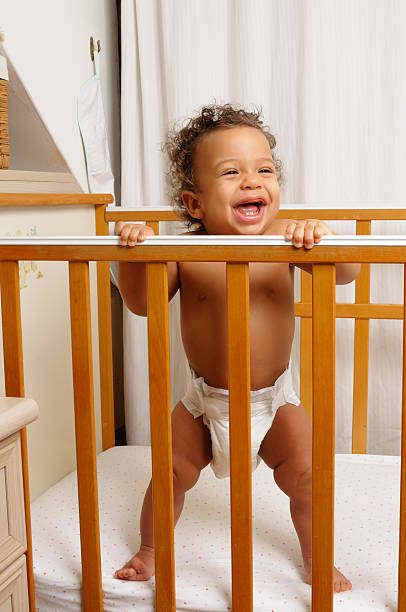baby: (249, 262, 311, 582)
crib: (0, 195, 405, 611)
